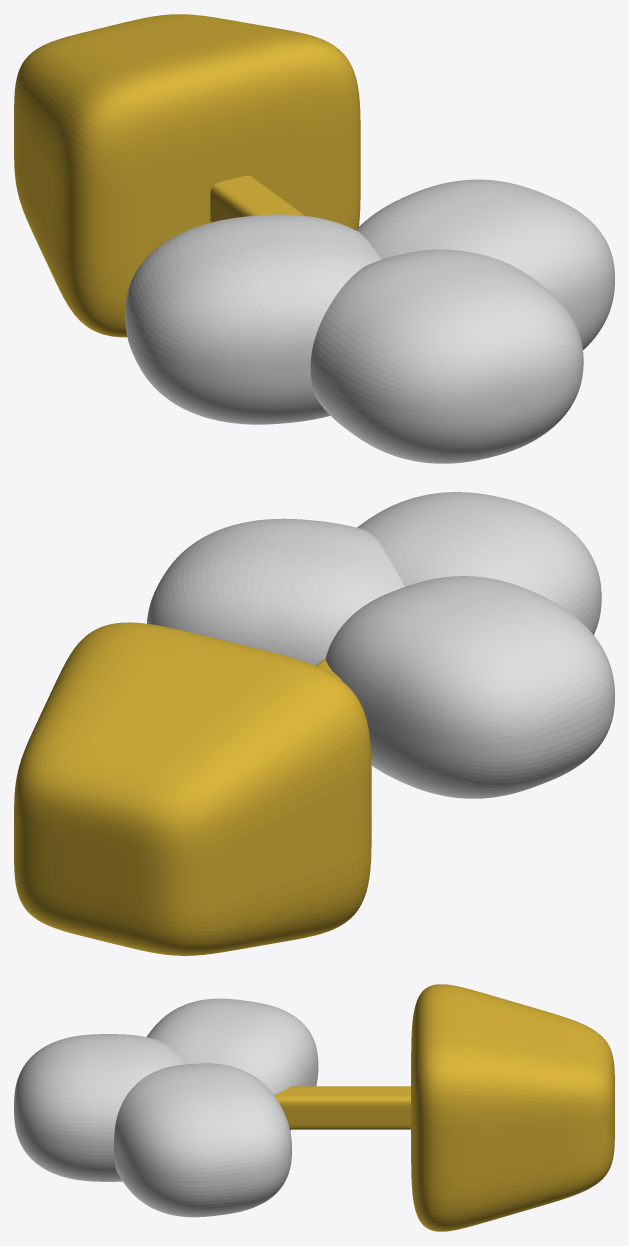
File: potted_rubber_plant_sq.glb
3 renders of one model, top to bottom at view 1: azimuth 30°, elevation 25°; view 2: azimuth 150°, elevation 25°; view 3: azimuth 270°, elevation 25°, orthographic. The views are drawn at different scales.
Visible parts, largest first — view 1: superquadric_0, superquadric_4, superquadric_2, superquadric_3, superquadric_1; view 2: superquadric_0, superquadric_2, superquadric_3, superquadric_4; view 3: superquadric_0, superquadric_3, superquadric_4, superquadric_2, superquadric_1.
Boxes of the visible parts, x1,y1,x2,y2 form: superquadric_0: [14, 14, 360, 337]; superquadric_4: [310, 249, 583, 463]; superquadric_2: [125, 214, 381, 424]; superquadric_3: [356, 179, 614, 349]; superquadric_1: [210, 175, 304, 222]; superquadric_0: [14, 622, 371, 955]; superquadric_2: [325, 576, 614, 798]; superquadric_3: [147, 518, 404, 665]; superquadric_4: [357, 492, 601, 634]; superquadric_0: [411, 984, 614, 1231]; superquadric_3: [114, 1063, 291, 1217]; superquadric_4: [14, 1034, 185, 1181]; superquadric_2: [146, 998, 318, 1130]; superquadric_1: [274, 1086, 410, 1129].
Bounding box in the file's own units: 0.6006 × 0.3387 × 1.
